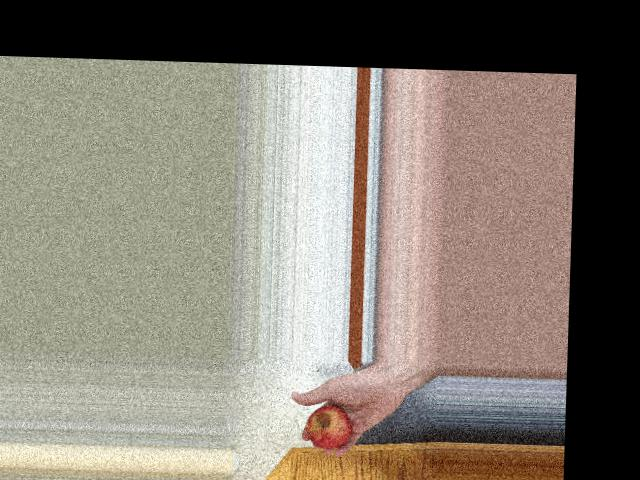apple: (298, 399, 359, 452)
